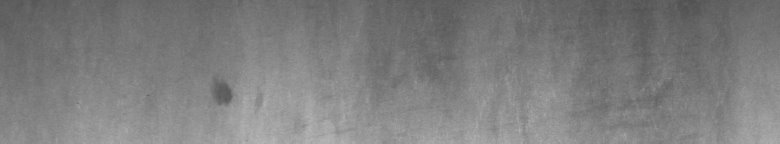fi: (215, 80, 266, 110)
